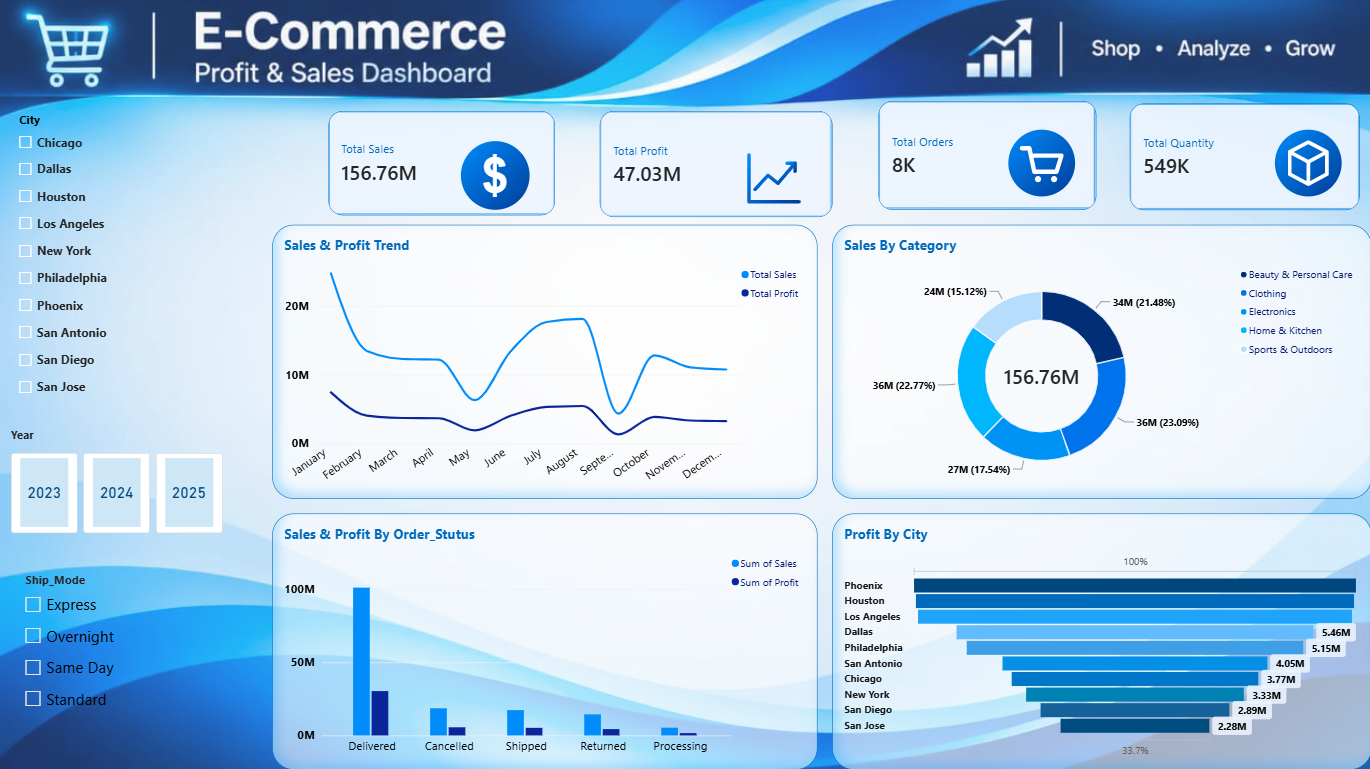

This screenshot's page, from the dashboard's own definition file:
{"tool":"powerbi","page":{"name":" Executive Sales Overview Dashboard","canvas":[1920,1080],"ordinal":1},"visuals":[{"type":"cardVisual","fields":{"Data":["ecommerce_sales_dataset.Total Sales"]},"box":[463.4,161.3,316.3,145.5],"z":0},{"type":"cardVisual","fields":{"Data":["ecommerce_sales_dataset.Total Profit"]},"box":[843.1,159.8,324.4,148.3],"z":1000},{"type":"cardVisual","fields":{"Data":["ecommerce_sales_dataset.Total Orders"]},"box":[1230.6,147.1,303.7,151.8],"z":2000},{"type":"cardVisual","fields":{"Data":["ecommerce_sales_dataset.Total Quantity"]},"box":[1581.7,150.3,321.1,148.7],"z":3000},{"type":"lineChart","title":"Sales & Profit Trend","fields":{"Category":["ecommerce_sales_dataset.Order_Date.Variation.Date Hierarchy.Month"],"Y":["ecommerce_sales_dataset.Total Sales","ecommerce_sales_dataset.Total Profit"]},"box":[385.9,319.5,760.8,382.8],"z":4000},{"type":"donutChart","title":" Sales By Category ","fields":{"Series":["ecommerce_sales_dataset.Product_Category"],"Y":["ecommerce_sales_dataset.Total Sales"]},"box":[1167.3,319.5,752.9,382.8],"z":5000},{"type":"clusteredColumnChart","title":"Sales & Profit By Order_Stutus","fields":{"Category":["ecommerce_sales_dataset.Order_Status"],"Y":["Sum(ecommerce_sales_dataset.Sales)","Sum(ecommerce_sales_dataset.profit)"]},"box":[385.9,722.9,760.8,357.5],"z":6000},{"type":"funnel","title":" Profit By City","fields":{"Category":["ecommerce_sales_dataset.City"],"Y":["Sum(ecommerce_sales_dataset.Profit)"]},"box":[1167.3,722.9,752.9,357.5],"z":7000},{"type":"slicer","fields":{"Values":["ecommerce_sales_dataset.City"]},"box":[25,160.7,297,453],"z":8000},{"type":"advancedSlicerVisual","fields":{"Values":["ecommerce_sales_dataset.Year"]},"box":[20.6,599.5,297,150],"z":9000},{"type":"slicer","fields":{"Values":["ecommerce_sales_dataset.Ship_Mode"]},"box":[33.1,802.3,287,230],"z":10000},{"type":"image","box":[637.4,193,120.2,113.9],"z":11000},{"type":"image","box":[1025,208.8,120.2,90.2],"z":12000},{"type":"image","box":[1382.4,177.2,151.8,110.7],"z":13000},{"type":"image","box":[1760.5,177.2,142.4,110.7],"z":14000}]}

Visuals, with their boxes in screenshot pixels (x1, y1, x2, y2), scaled from the page's 1920x1080 canvas onto the 1370x769 screenshot:
cardVisual - ecommerce_sales_dataset.Total Sales: pyautogui.locateOnScreen(331, 115, 556, 218)
cardVisual - ecommerce_sales_dataset.Total Profit: pyautogui.locateOnScreen(602, 114, 833, 219)
cardVisual - ecommerce_sales_dataset.Total Orders: pyautogui.locateOnScreen(878, 105, 1095, 213)
cardVisual - ecommerce_sales_dataset.Total Quantity: pyautogui.locateOnScreen(1129, 107, 1358, 213)
"Sales & Profit Trend" lineChart: pyautogui.locateOnScreen(275, 227, 818, 500)
" Sales By Category " donutChart: pyautogui.locateOnScreen(833, 227, 1369, 500)
"Sales & Profit By Order_Stutus" clusteredColumnChart: pyautogui.locateOnScreen(275, 515, 818, 768)
" Profit By City" funnel: pyautogui.locateOnScreen(833, 515, 1369, 768)
slicer - ecommerce_sales_dataset.City: pyautogui.locateOnScreen(18, 114, 230, 437)
advancedSlicerVisual - ecommerce_sales_dataset.Year: pyautogui.locateOnScreen(15, 427, 227, 534)
slicer - ecommerce_sales_dataset.Ship_Mode: pyautogui.locateOnScreen(24, 571, 228, 735)
image: pyautogui.locateOnScreen(455, 137, 541, 219)
image: pyautogui.locateOnScreen(731, 149, 817, 213)
image: pyautogui.locateOnScreen(986, 126, 1095, 205)
image: pyautogui.locateOnScreen(1256, 126, 1358, 205)
